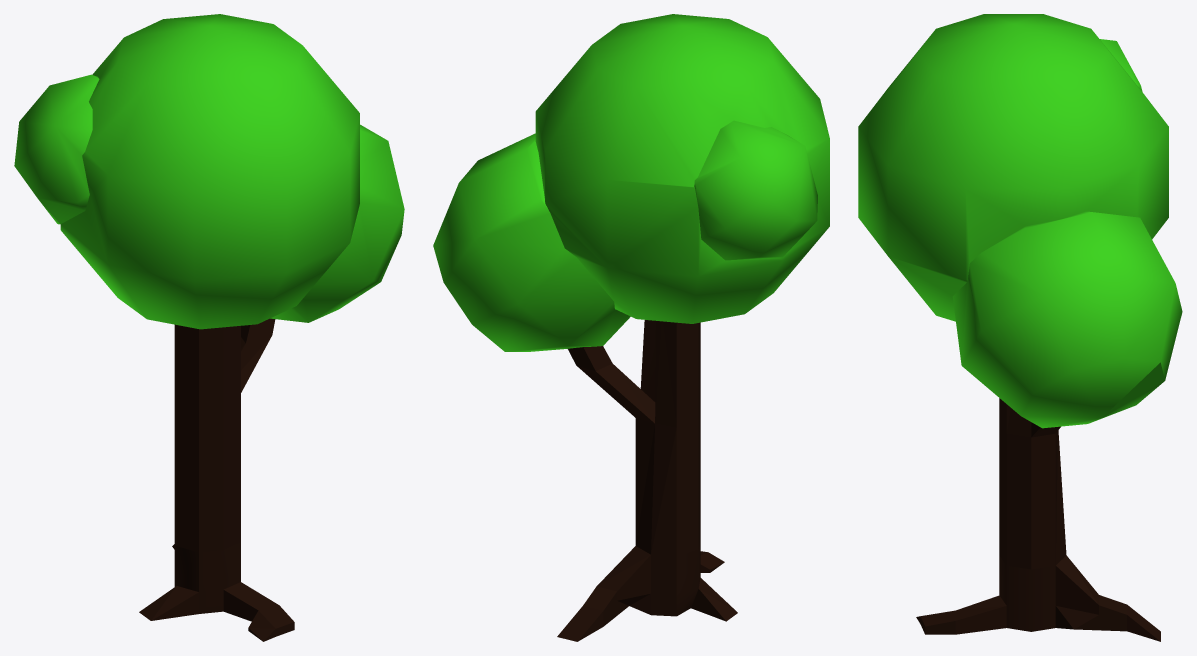
File: Tree1.FBX
The picture shows the model from 3 angles, left to right: view 1: azimuth 30°, elevation 25°; view 2: azimuth 150°, elevation 25°; view 3: azimuth 270°, elevation 25°; orthographic projection. The views are drawn at different scales.
Visible parts, largest first — view 1: Tree 1; view 2: Tree 1; view 3: Tree 1.
Boxes of the visible parts, x1,y1,x2,y2 form: Tree 1: [14, 14, 404, 641]; Tree 1: [433, 14, 829, 641]; Tree 1: [858, 14, 1182, 641].
Size of the model in its own units: 425 by 644 by 320.
